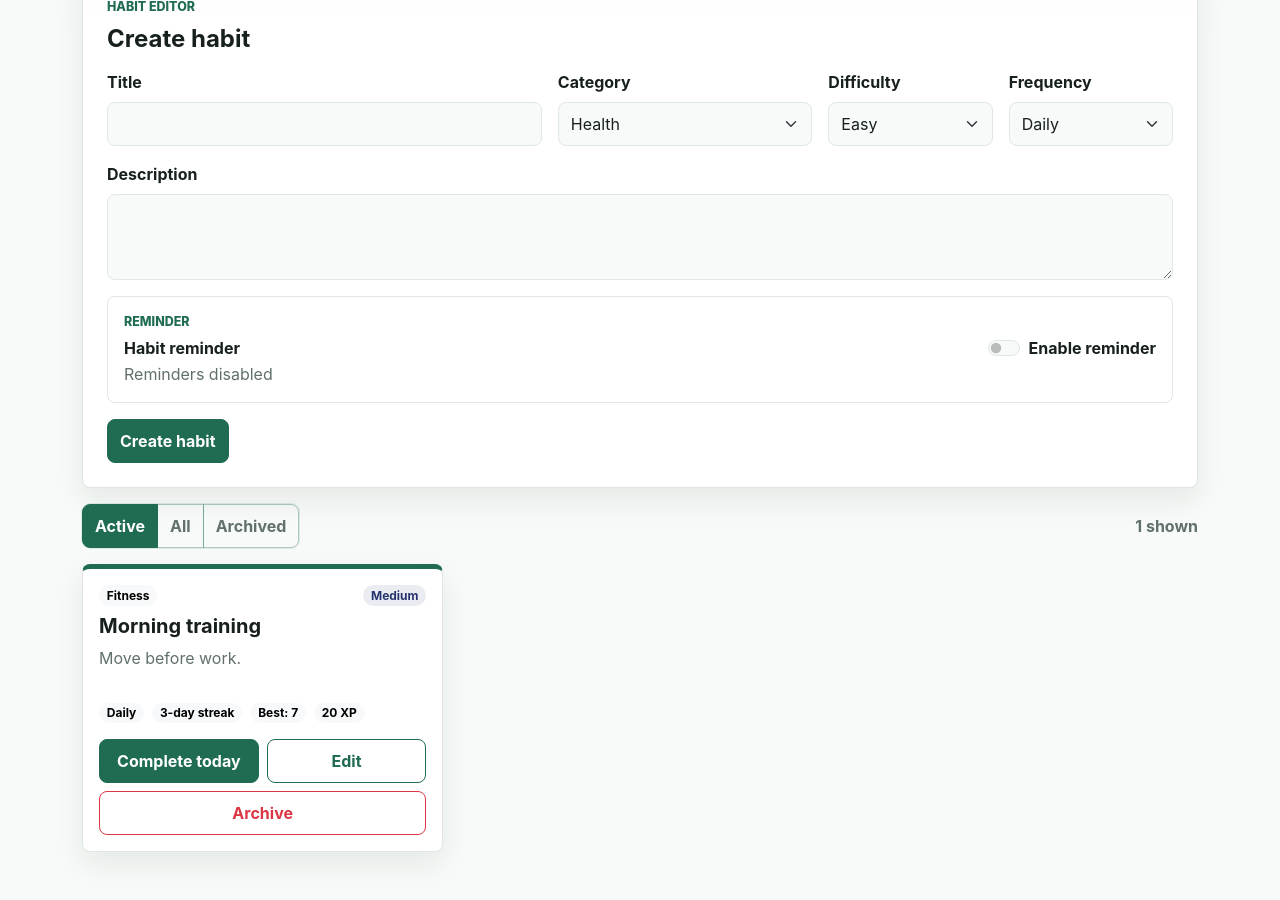
Test: Habits API view › does not show duplicate XP gain when the API returns an existing completion
(page scrolled)
Click the button "Complete today" at (179, 761), box [99, 739, 259, 783]
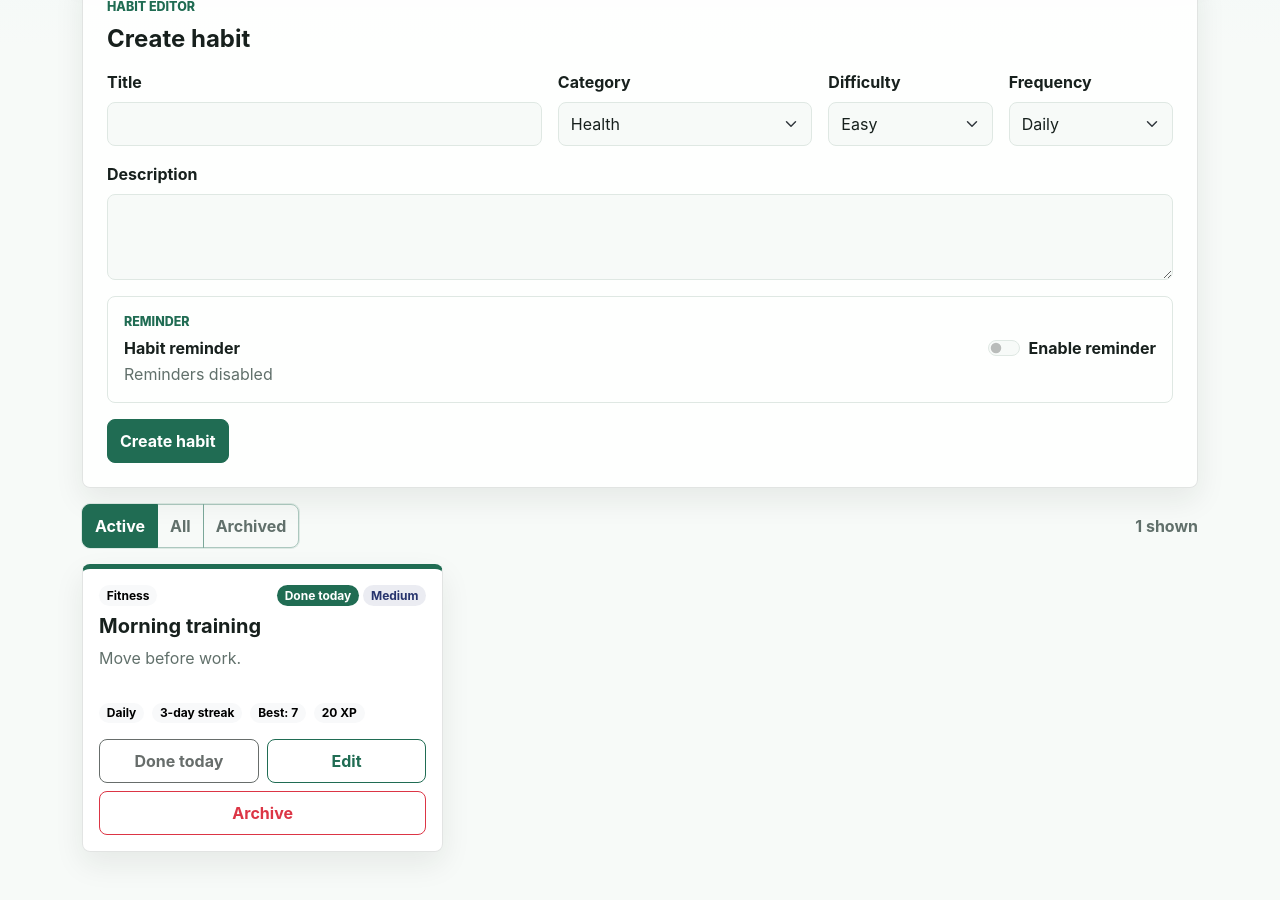
Expected: the text "3-day streak" is shown, [152, 703, 242, 724]
Expected: the text "Done today" is shown, [277, 585, 359, 606]
